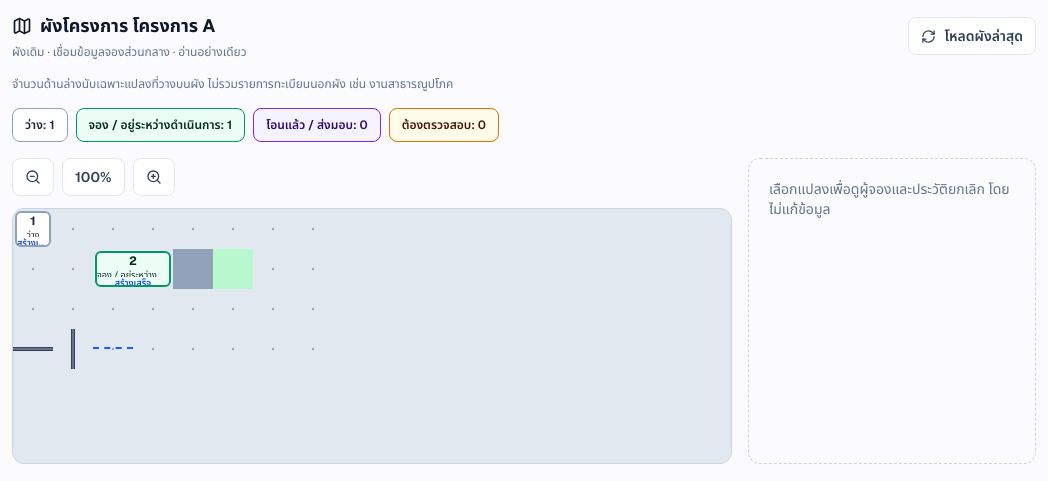
Scenario: central booking read-only project map › keeps construction separate and provides central lead navigation for vacancy
Click the button with aria-label "แปลง 1 — ว่าง".
click(33, 229)  # box 13,209 -> 53,249
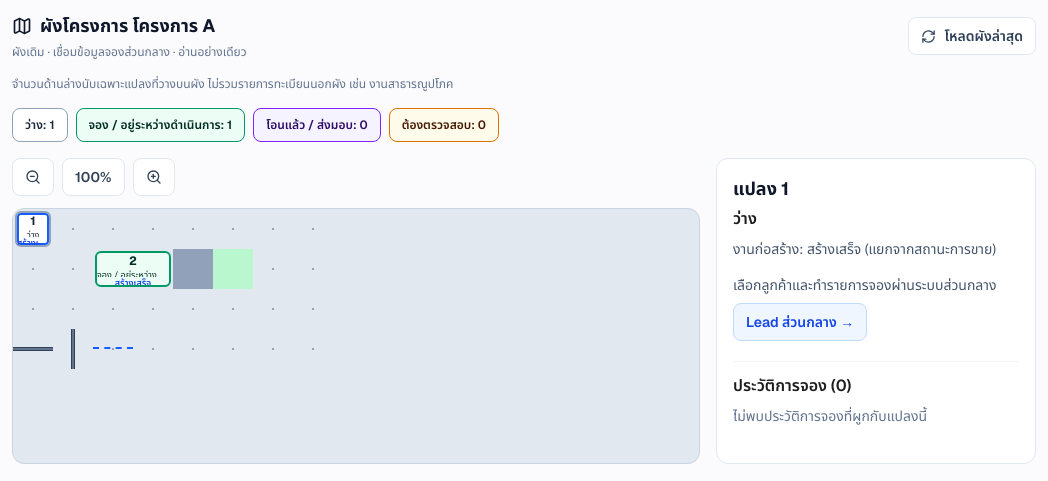
Expected: the text "งานก่อสร้าง: สร้างเสร็จ (แยกจากสถานะการขาย)" is shown, 733,239 -> 1019,259
